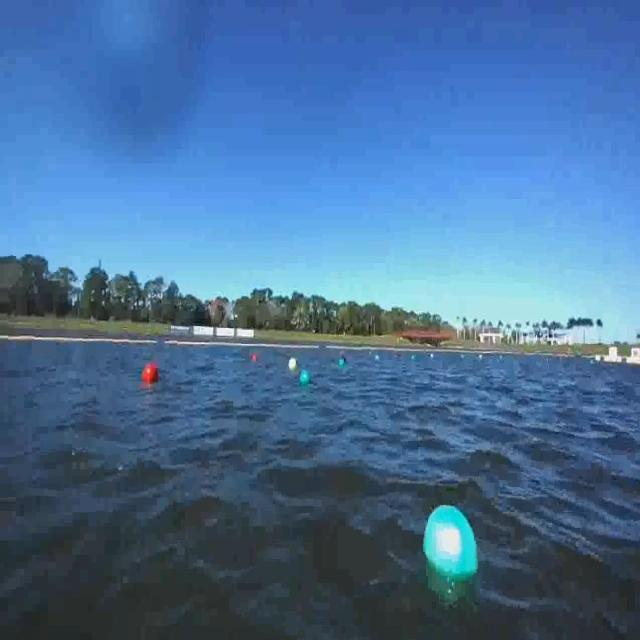green-buoy: (423, 504, 480, 585), (300, 370, 312, 387), (340, 358, 347, 368)
red-buoy: (143, 362, 162, 384)
yellow-buoy: (288, 356, 297, 372)
